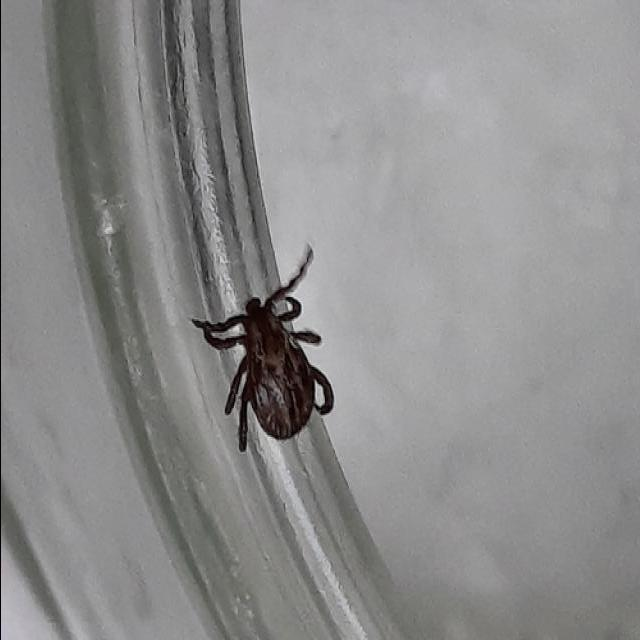Dermacentor Reticulatus-M: (189, 246, 332, 451)
